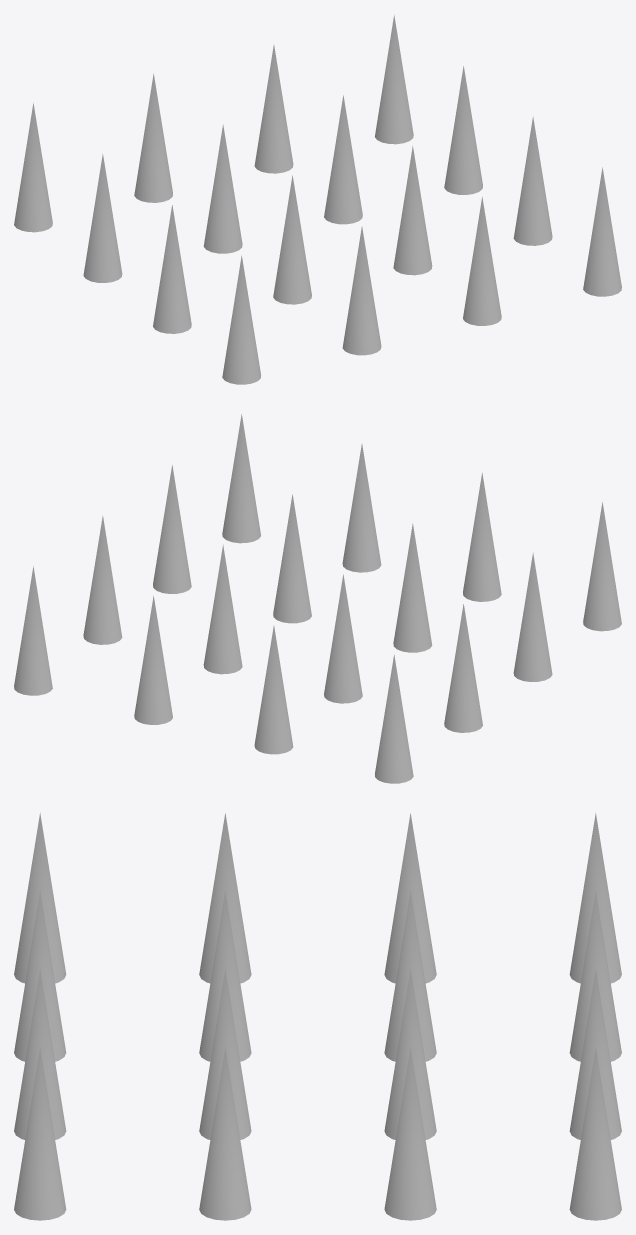
Rendered from Cave_Trap Corn.fbx.
3 views of the same model, one above another, from view 1: azimuth 30°, elevation 25°; view 2: azimuth 150°, elevation 25°; view 3: azimuth 270°, elevation 25° (orthographic). The views are drawn at different scales.
Visible parts, largest first — view 1: Cone.002; view 2: Cone.002; view 3: Cone.002.
Part boxes in pixels (left/top/right/bottom): Cone.002: left=14, top=15, right=621, bottom=384; Cone.002: left=14, top=414, right=621, bottom=783; Cone.002: left=14, top=812, right=621, bottom=1220.
Bounding box in the file's own units: 68.18 × 20.1 × 68.18.
1 material, 1 textured.
